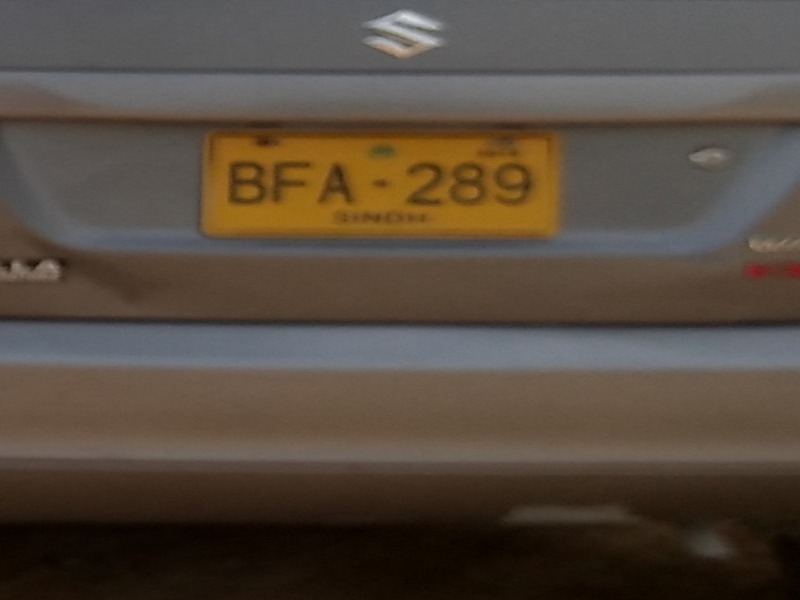License Plate: (201, 126, 562, 236)
